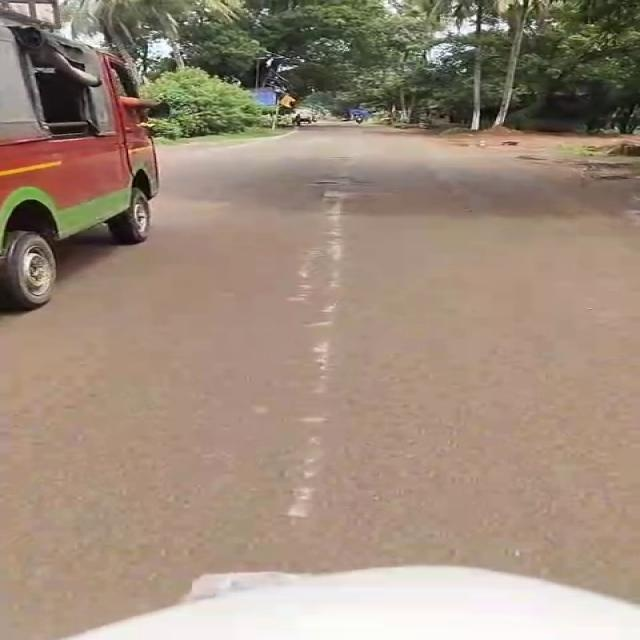pothole: (314, 177, 358, 186)
